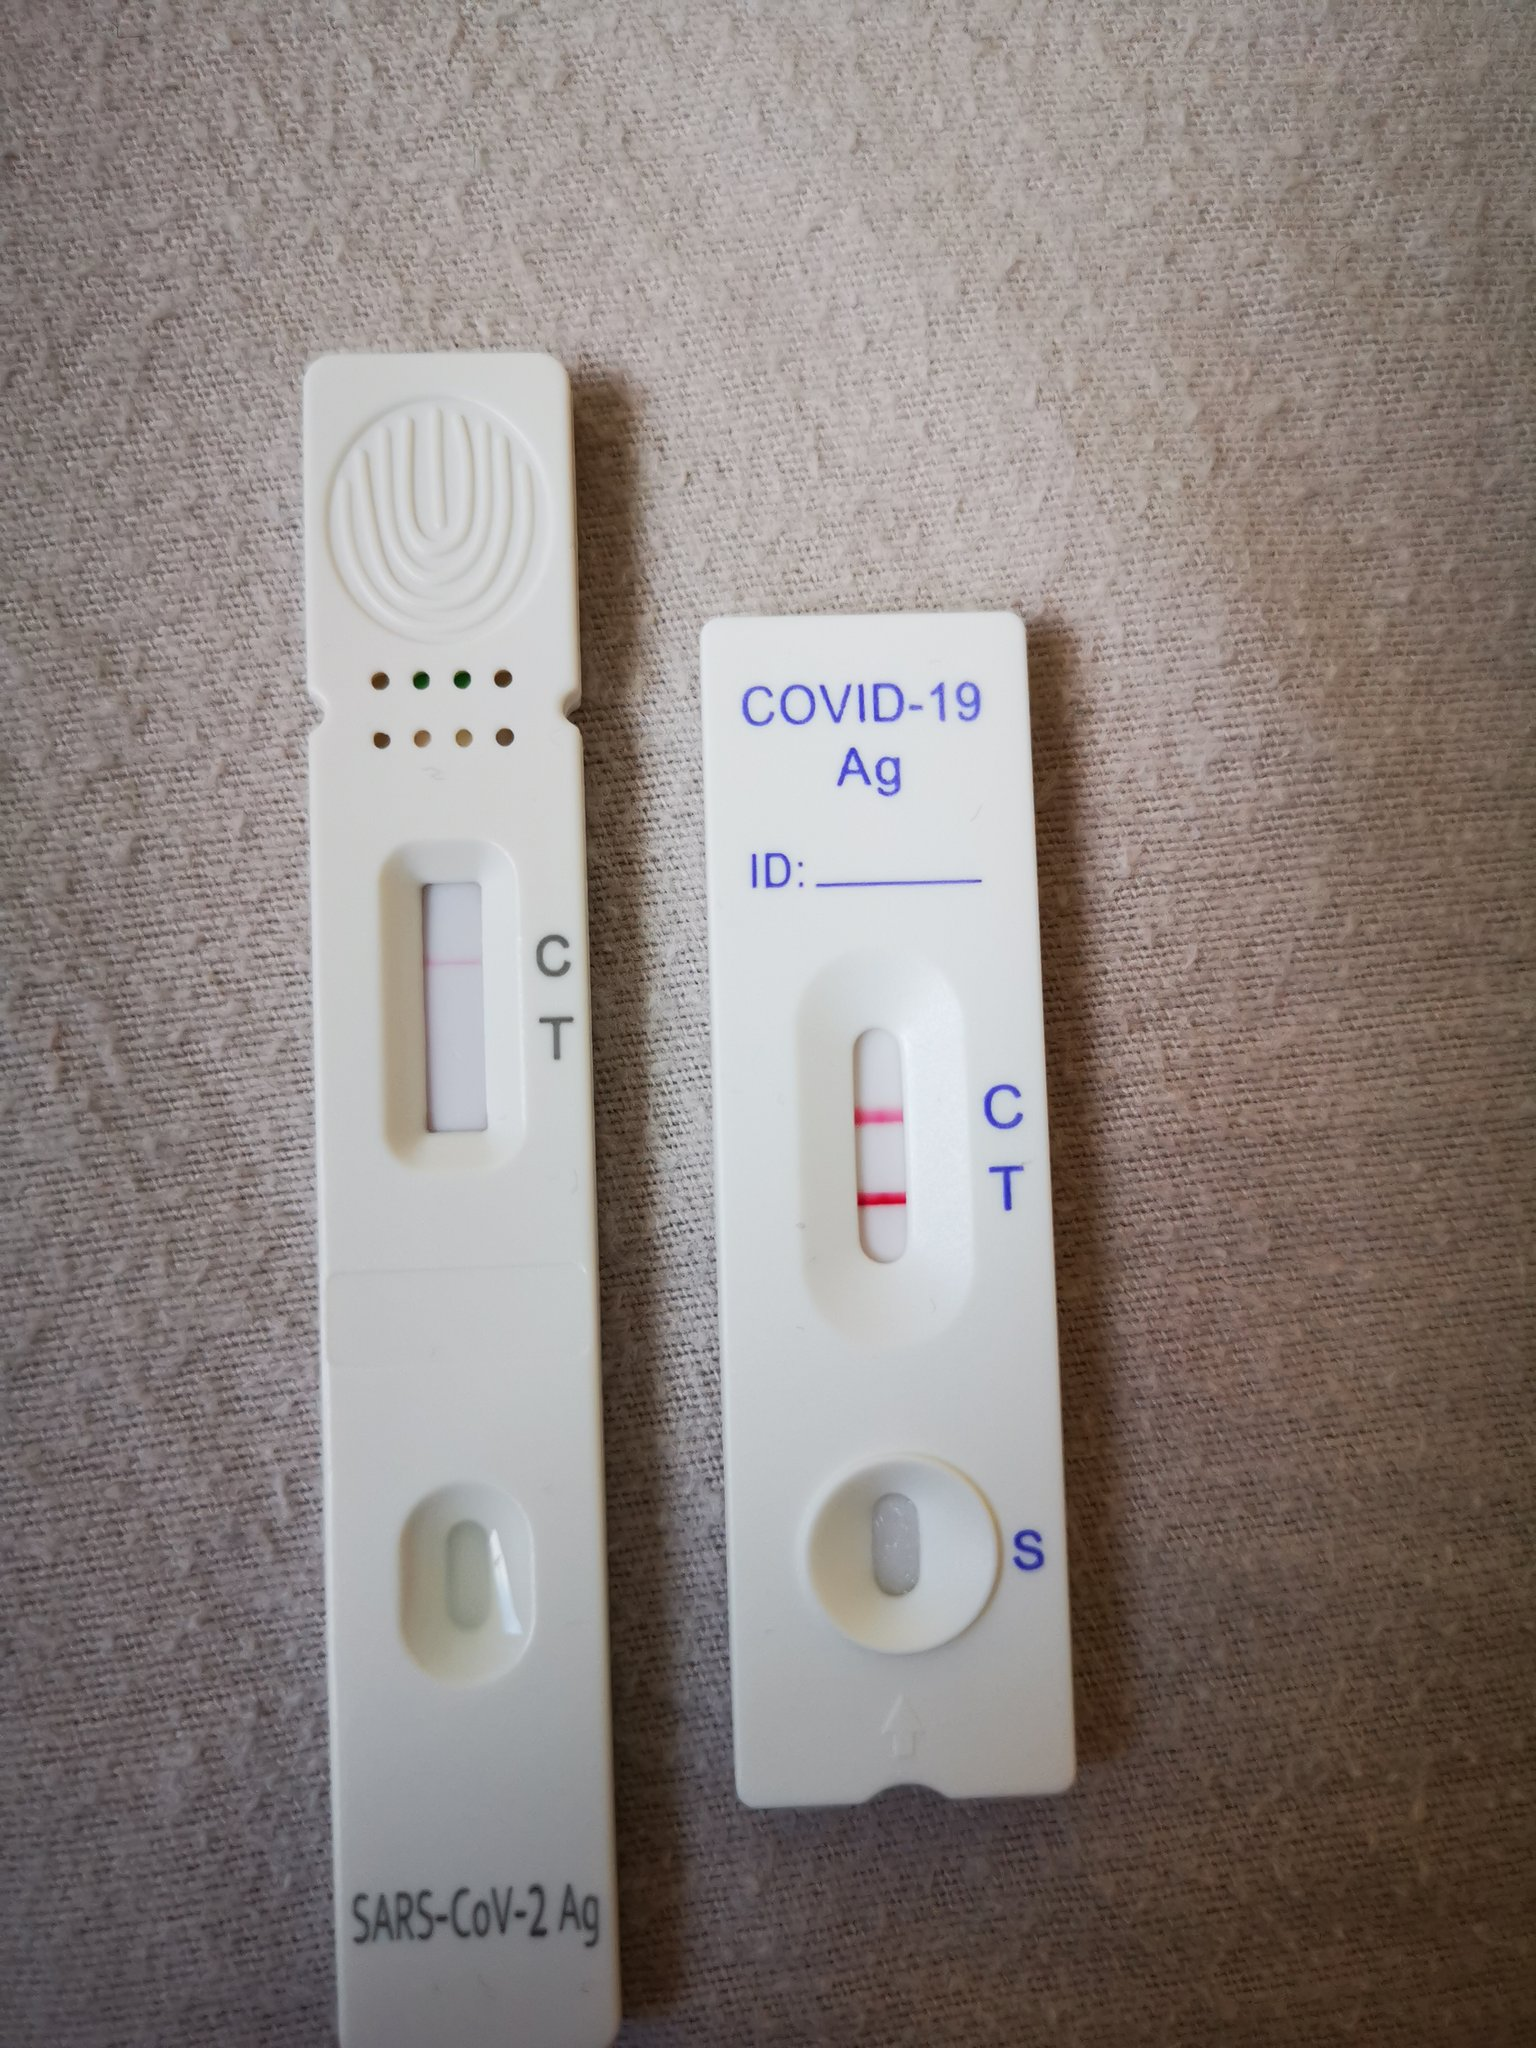Invalid: (397, 861, 502, 1159)
positive: (833, 1016, 949, 1292)
